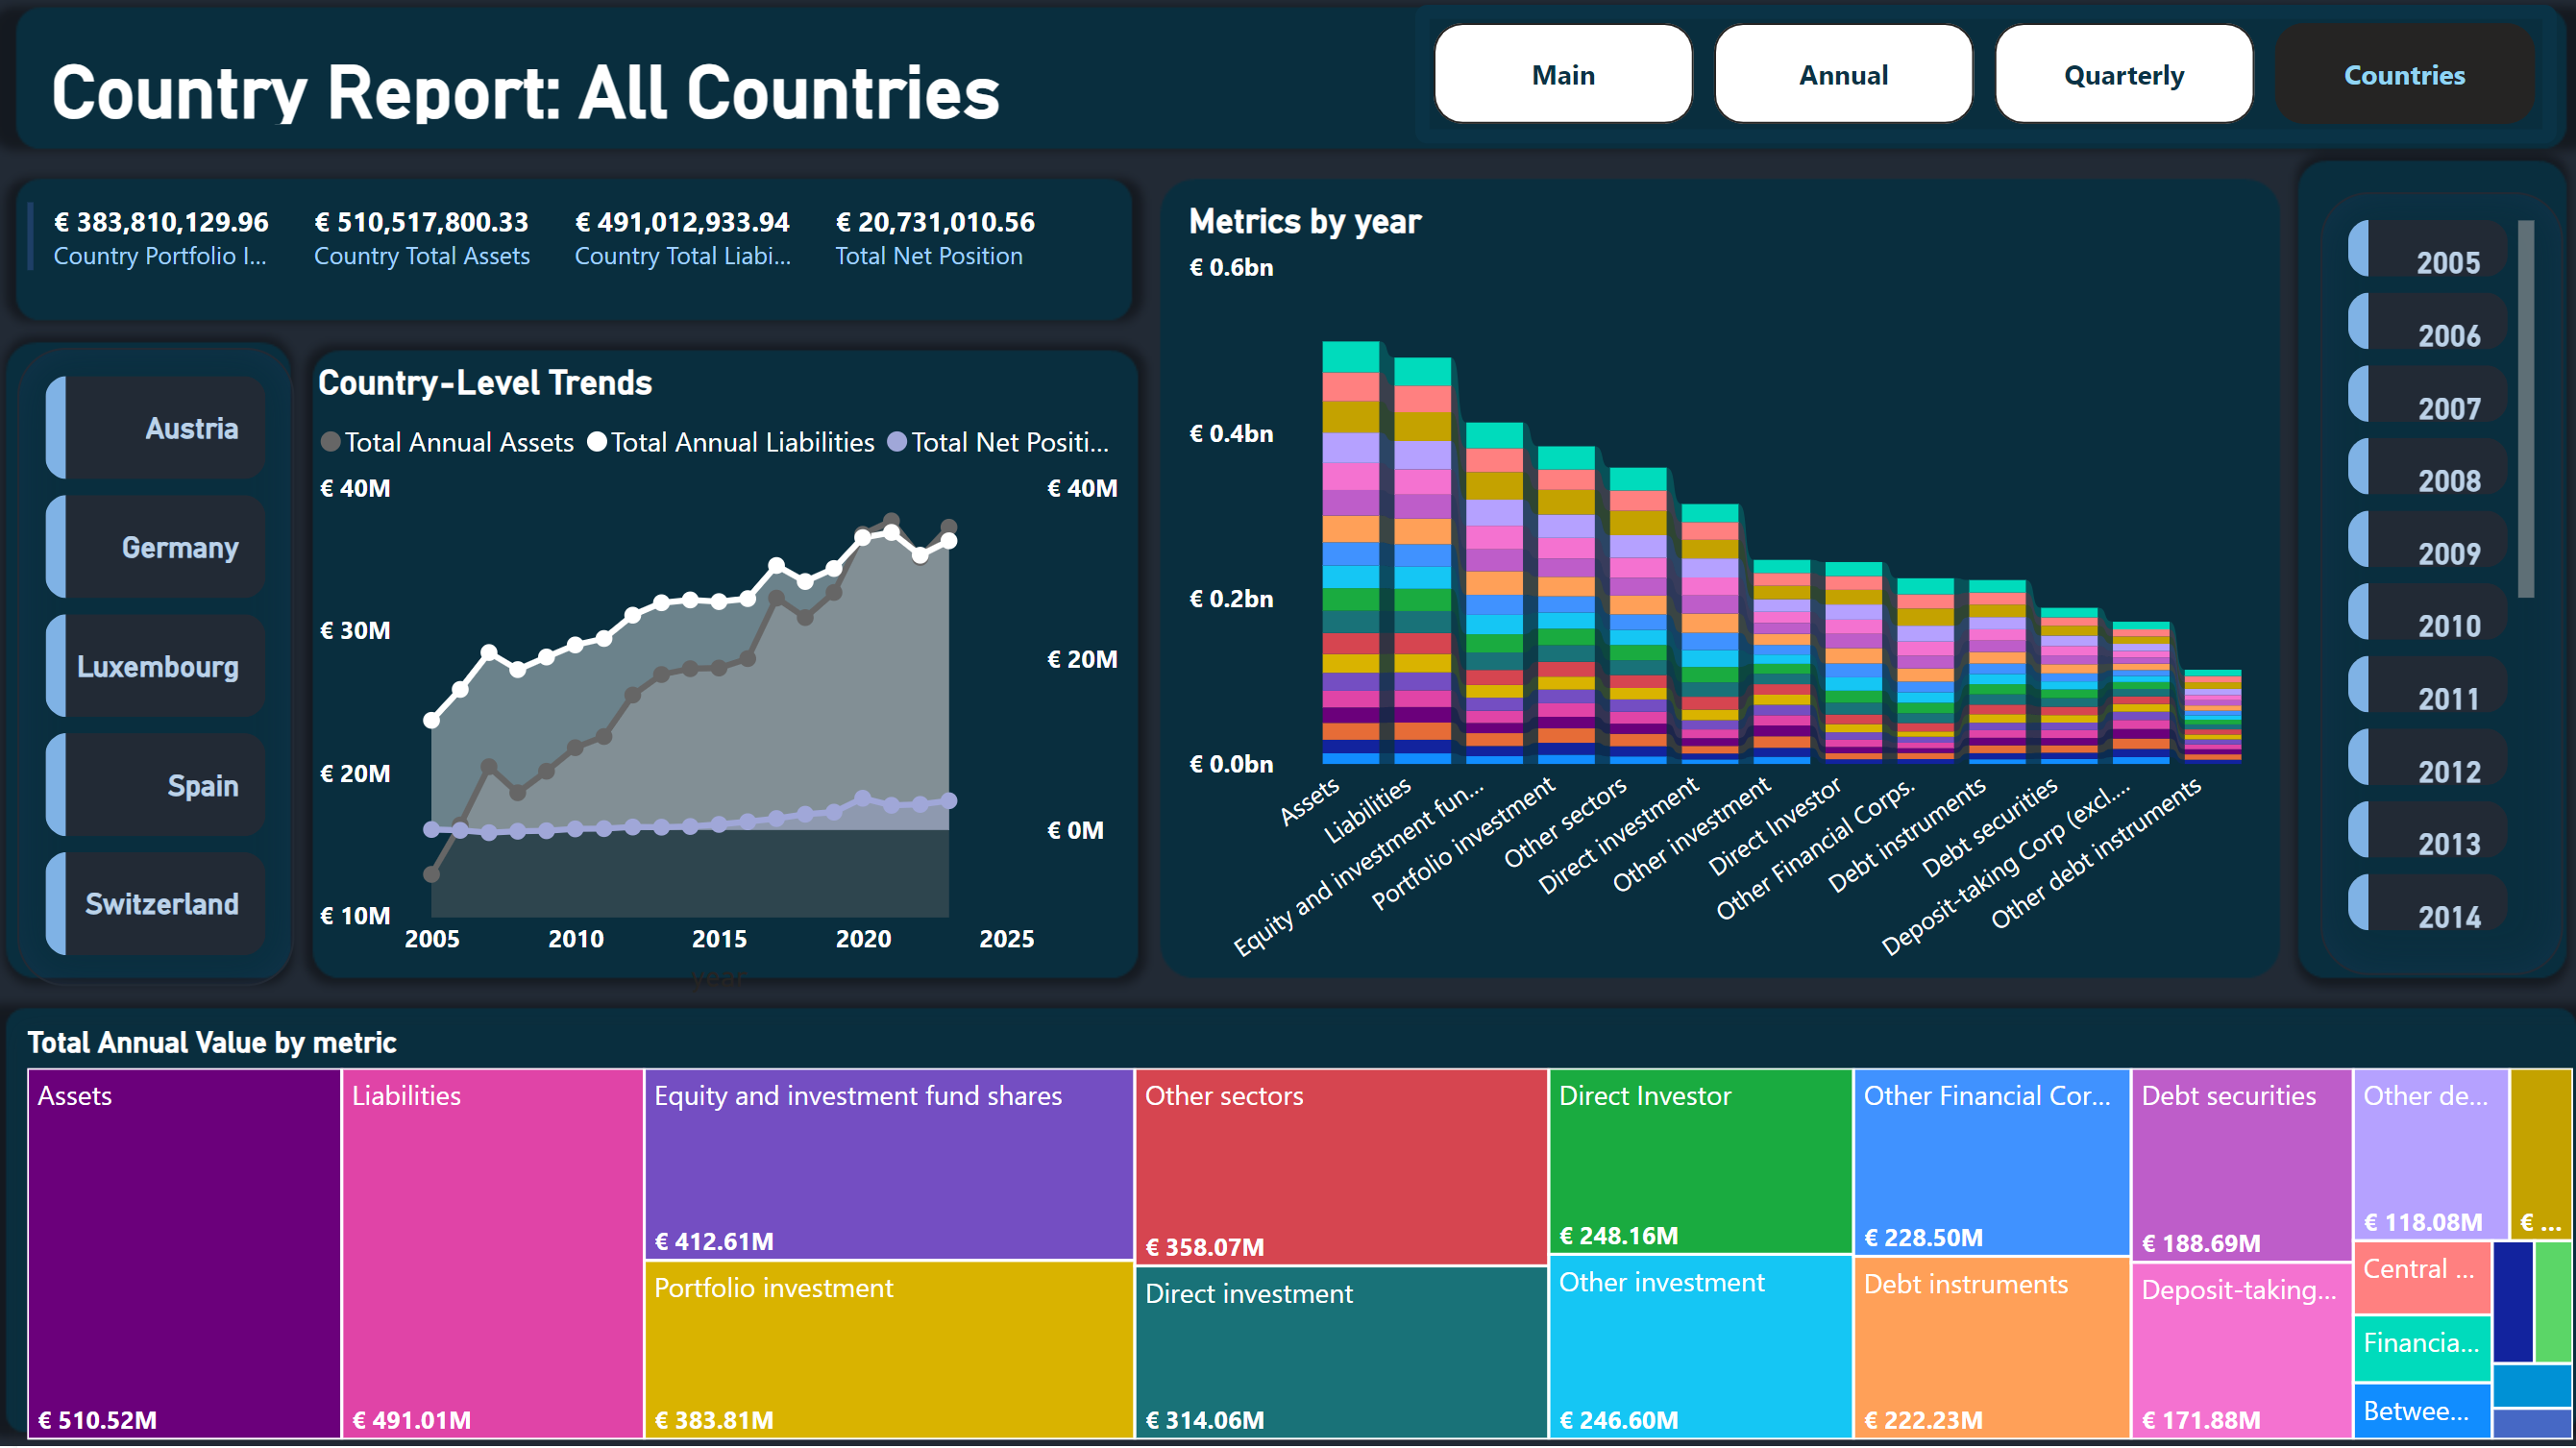

The page's visual inventory and layout, read from the dashboard file:
{"tool":"powerbi","page":{"name":"Countries","canvas":[1280,720],"ordinal":3},"visuals":[{"type":"multiRowCard","fields":{"Values":["annual_data.Country Portfolio Investment","annual_data.Country Total Assets","annual_data.Country Total Liabilities","annual_data.Total Net Position"]},"box":[8.9,95.4,539.6,71.6],"z":0},{"type":"lineChart","title":"Country-Level Trends","fields":{"Category":["annual_data.year"],"Y":["annual_data.Total Annual Assets"],"Y2":["annual_data.Total Annual Liabilities","annual_data.Total Net Position"]},"box":[153.5,180.4,407,317.5],"z":1000},{"type":"treemap","fields":{"Group":["annual_data.metric"],"Values":["annual_data.Total Annual Value"]},"box":[8.9,508.3,1271.6,210.2],"z":2000},{"type":"columnChart","title":"Metrics by year","fields":{"Category":["annual_data.metric"],"Y":["Sum(annual_data.value)"],"Series":["annual_data.year"]},"box":[584.1,100.6,546.2,388.1],"z":3000},{"type":"cardVisual","fields":{"Data":["countries.Page Title"]},"box":[9.1,0,691.3,67.9],"z":4000},{"type":"advancedSlicerVisual","fields":{"Values":["countries.country"]},"box":[9.1,172.5,137.2,316.2],"z":5000},{"type":"listSlicer","fields":{"Values":["public annual_data.year"]},"box":[1149.9,95.4,120.2,388.1],"z":6000},{"type":"pageNavigator","box":[701.4,2.9,565.7,68.6],"z":7000}]}

Visuals, with their boxes in screenshot pixels (x1, y1, x2, y2), scaled from the page's 1280x720 canvas onto the 2576x1448 screenshot:
multiRowCard - annual_data.Country Portfolio Investment x annual_data.Country Total Assets: rect(18, 192, 1104, 336)
"Country-Level Trends" lineChart: rect(309, 363, 1128, 1001)
treemap - annual_data.metric x annual_data.Total Annual Value: rect(18, 1022, 2575, 1445)
"Metrics by year" columnChart: rect(1175, 203, 2274, 983)
cardVisual - countries.Page Title: rect(18, 0, 1410, 136)
advancedSlicerVisual - countries.country: rect(18, 347, 294, 983)
listSlicer - public annual_data.year: rect(2315, 192, 2556, 972)
pageNavigator: rect(1411, 6, 2550, 144)
